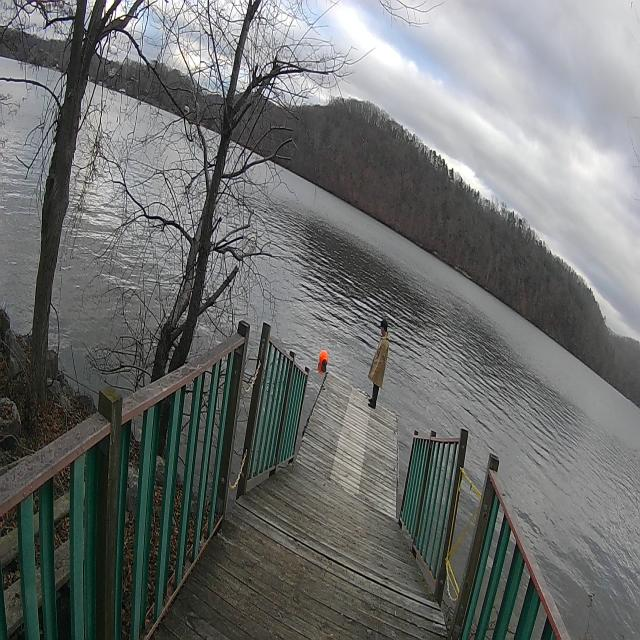Buoy: (318, 347, 330, 374)
